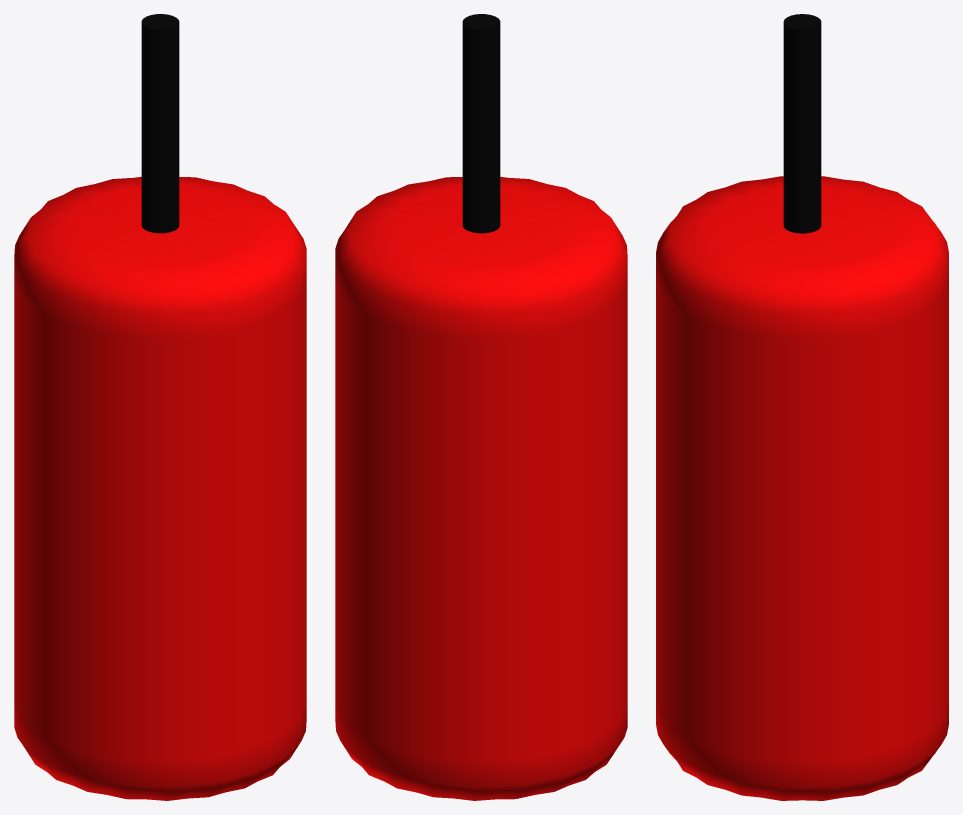
Rendered from Candle.fbx.
The picture shows the model from 3 angles, left to right: view 1: azimuth 30°, elevation 25°; view 2: azimuth 150°, elevation 25°; view 3: azimuth 270°, elevation 25°; orthographic projection.
Parts seen in each view (by area): view 1: pCylinder12, pCylinder13; view 2: pCylinder12, pCylinder13; view 3: pCylinder12, pCylinder13.
Part boxes in pixels (bbox=[...]): pCylinder12: bbox=[14, 177, 306, 800]; pCylinder13: bbox=[141, 14, 179, 233]; pCylinder12: bbox=[335, 177, 627, 800]; pCylinder13: bbox=[462, 14, 500, 233]; pCylinder12: bbox=[656, 176, 948, 800]; pCylinder13: bbox=[783, 14, 821, 233].
Size of the model in its own units: 0.4487 by 1.23 by 0.4487.
